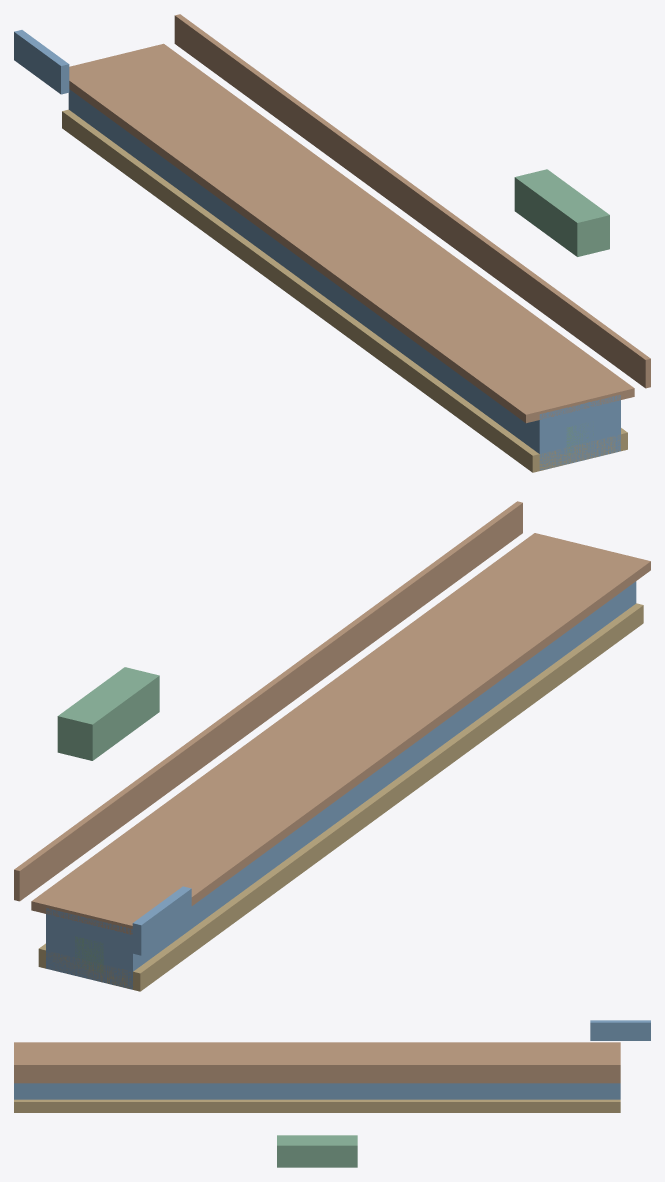
The picture shows the model from 3 angles, top to bottom: view 1: azimuth 30°, elevation 25°; view 2: azimuth 150°, elevation 25°; view 3: azimuth 270°, elevation 25°; orthographic projection. The views are drawn at different scales.
Parts seen in each view (by area): view 1: 4_埋戻し・路面復旧, 4_高欄, 1_掘削溝, 2_路盤・埋戻し土, 3_配管補修部, 1_仮設バリケード; view 2: 4_埋戻し・路面復旧, 4_高欄, 1_掘削溝, 2_路盤・埋戻し土, 3_配管補修部, 1_仮設バリケード, 3_更新ダクタイル管; view 3: 4_埋戻し・路面復旧, 4_高欄, 1_掘削溝, 2_路盤・埋戻し土, 3_配管補修部, 1_仮設バリケード.
Boxes of the visible parts, x1,y1,x2,y2 form: 4_埋戻し・路面復旧: [69, 43, 634, 423]; 4_高欄: [174, 14, 650, 388]; 1_掘削溝: [68, 89, 620, 470]; 2_路盤・埋戻し土: [62, 109, 627, 472]; 3_配管補修部: [514, 169, 609, 256]; 1_仮設バリケード: [14, 30, 69, 94]; 4_埋戻し・路面復旧: [31, 533, 650, 934]; 4_高欄: [14, 501, 522, 901]; 1_掘削溝: [46, 581, 636, 989]; 2_路盤・埋戻し土: [38, 603, 643, 991]; 3_配管補修部: [57, 667, 159, 760]; 1_仮設バリケード: [132, 886, 191, 955]; 3_更新ダクタイル管: [75, 936, 103, 973]; 4_埋戻し・路面復旧: [14, 1042, 620, 1063]; 4_高欄: [14, 1063, 620, 1083]; 1_掘削溝: [14, 1083, 620, 1099]; 2_路盤・埋戻し土: [14, 1099, 620, 1112]; 3_配管補修部: [277, 1135, 357, 1167]; 1_仮設バリケード: [590, 1020, 650, 1040].
Bounding box in the file's own units: 11.25 × 3 × 31.5.
